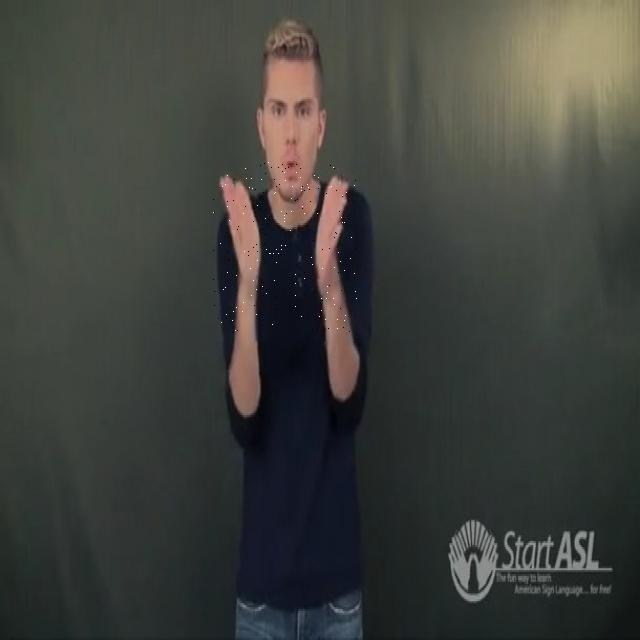small: (213, 162, 357, 332)
